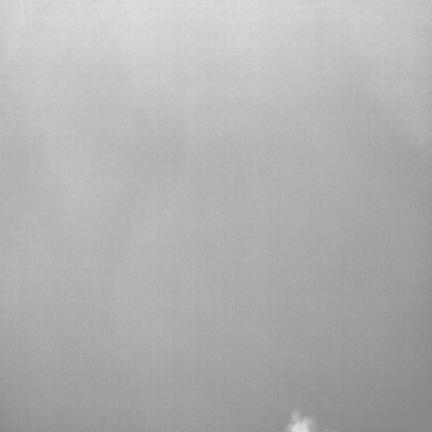flukeprints: (285, 411, 318, 431)
